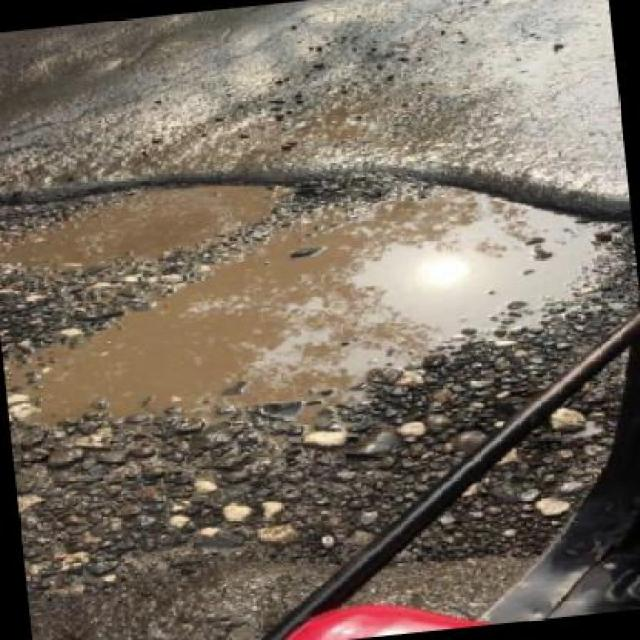pothole1: (0, 120, 638, 469)
